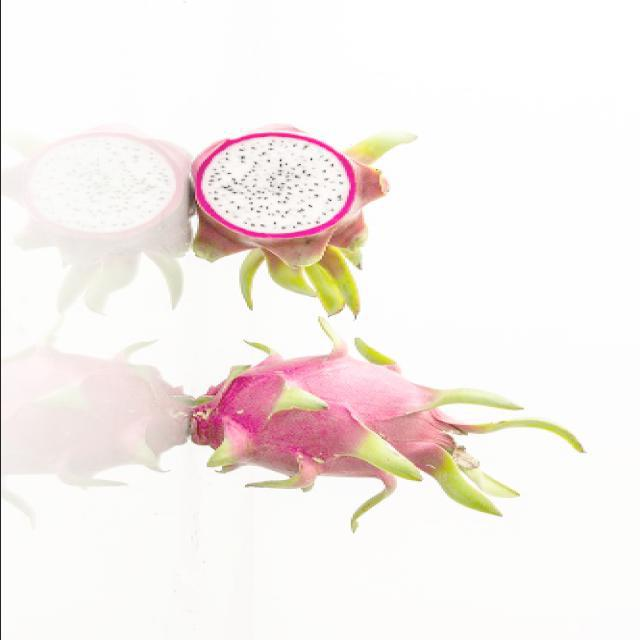trang: (161, 315, 587, 537), (180, 120, 420, 316)
